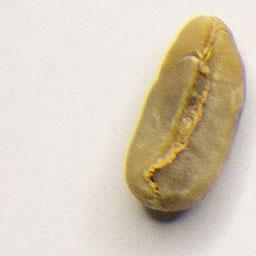longberry: (123, 12, 249, 216)
